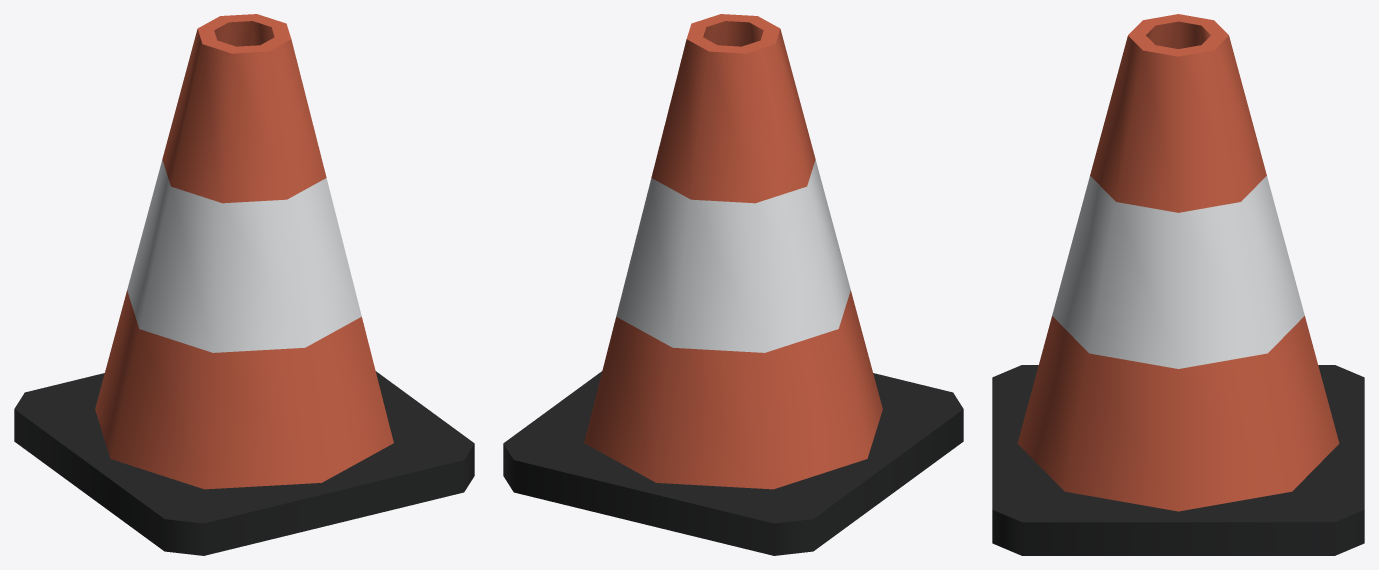
File: Traffic_Cone_001.glb
The picture shows the model from 3 angles, left to right: view 1: azimuth 30°, elevation 25°; view 2: azimuth 150°, elevation 25°; view 3: azimuth 270°, elevation 25°; orthographic projection. The views are drawn at different scales.
Parts seen in each view (by area): view 1: Traffic Cone.001; view 2: Traffic Cone.001; view 3: Traffic Cone.001.
Boxes of the visible parts, x1,y1,x2,y2 form: Traffic Cone.001: (14,14,474,555); Traffic Cone.001: (503,14,963,555); Traffic Cone.001: (992,14,1364,555).
Bounding box in the file's own units: 2 × 2.62 × 2.
Materials: 1 (1 with a texture image).
